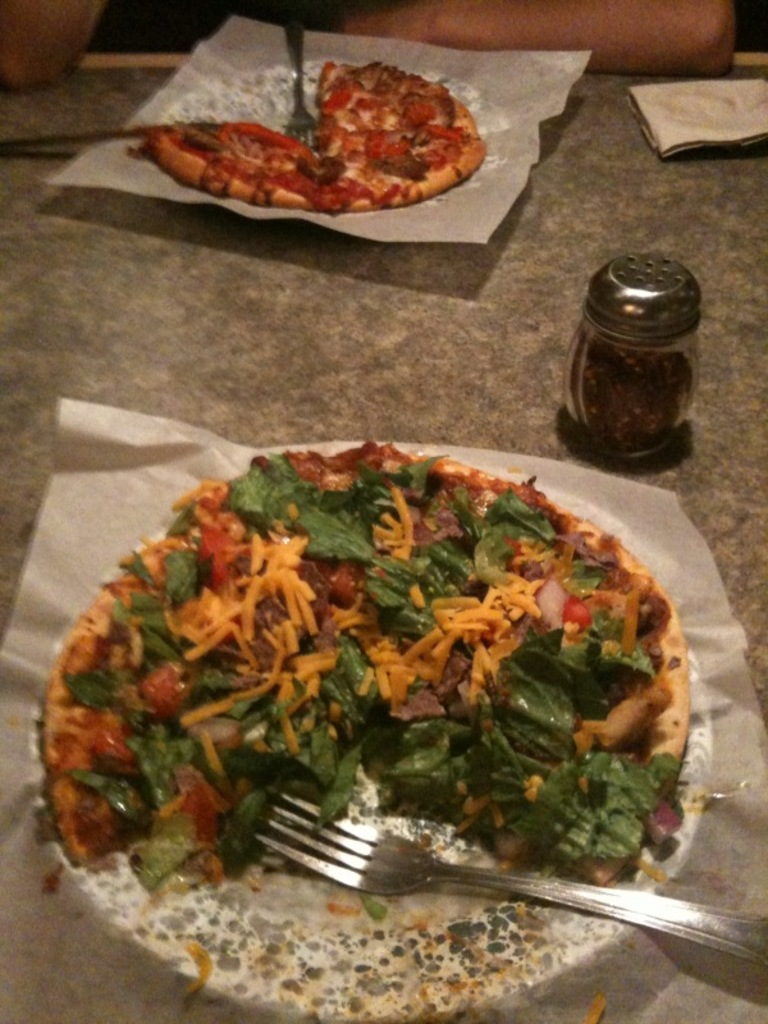pizza: (33, 422, 719, 884), (146, 52, 488, 212)
